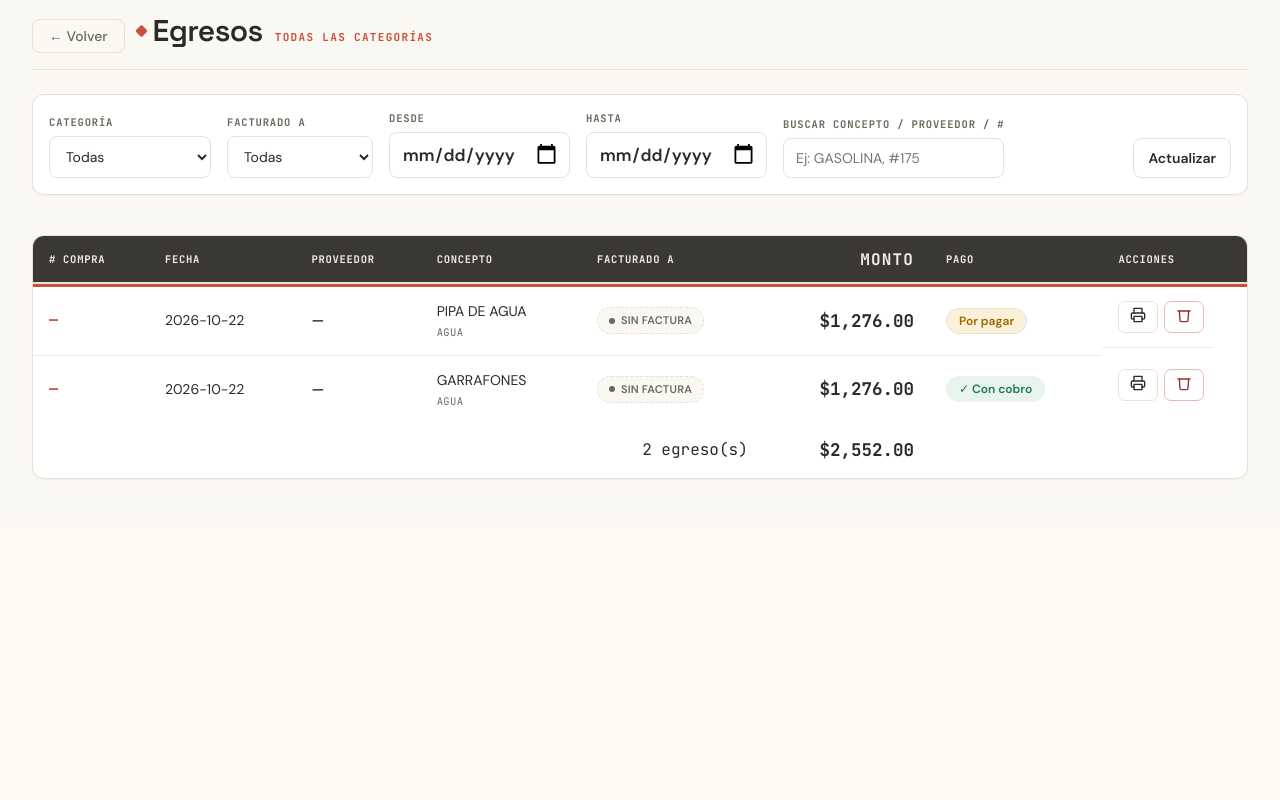
Test: Egresos: ¿con qué se pagó? › 🔴 el rechazo del servidor se ve y el modal se queda
This screenshot has width=1280, height=800.
Click the button "Por pagar" at (987, 321), box [946, 308, 1027, 334]
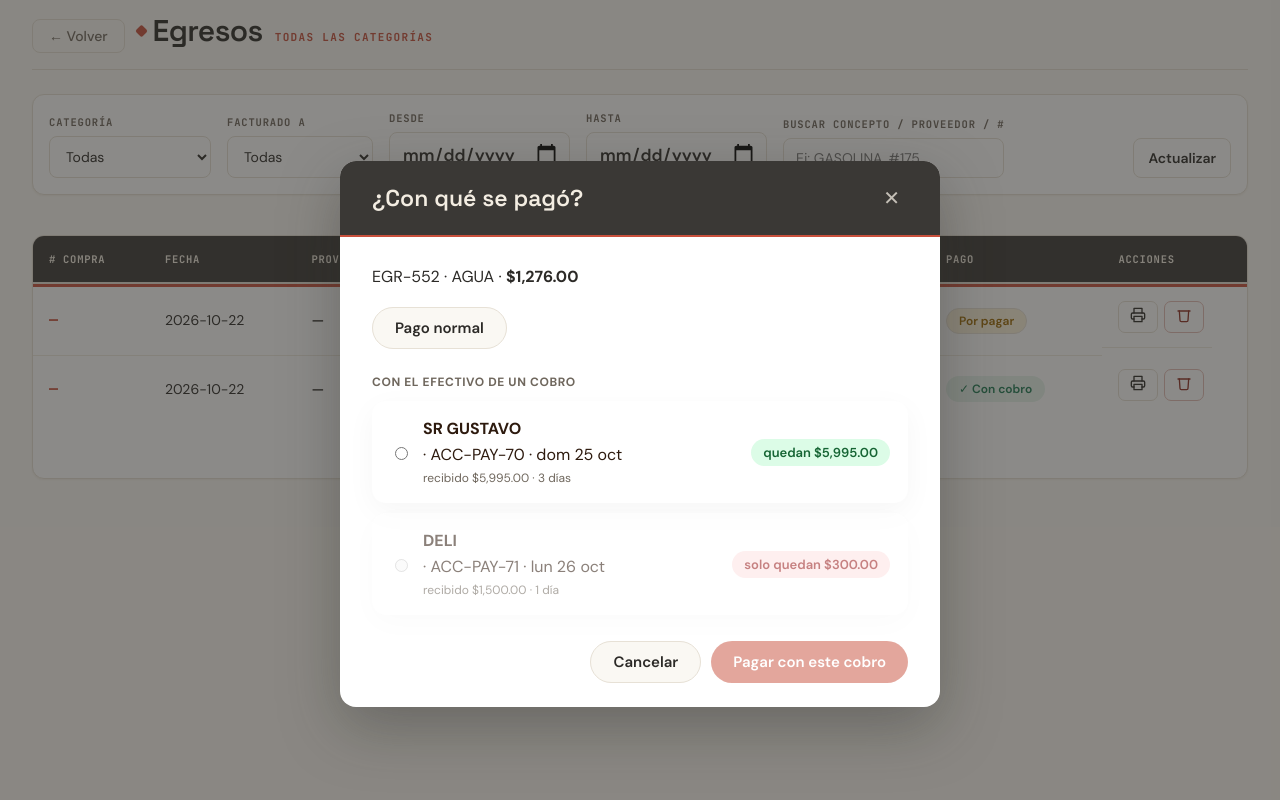
Click the radio button labelled "ACC-PAY-70" at (402, 454), box [395, 447, 408, 460]
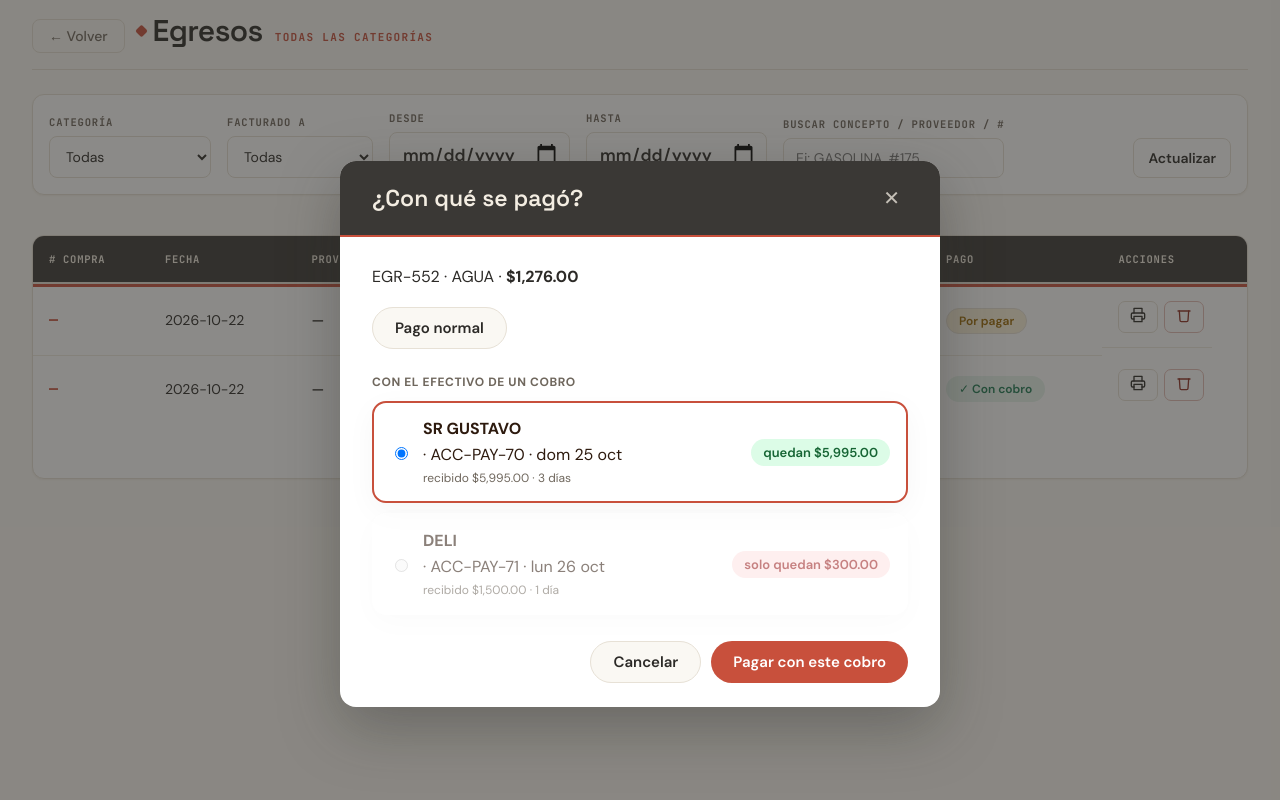
Click the button "Pagar con este cobro" at (810, 662), box [711, 641, 908, 683]
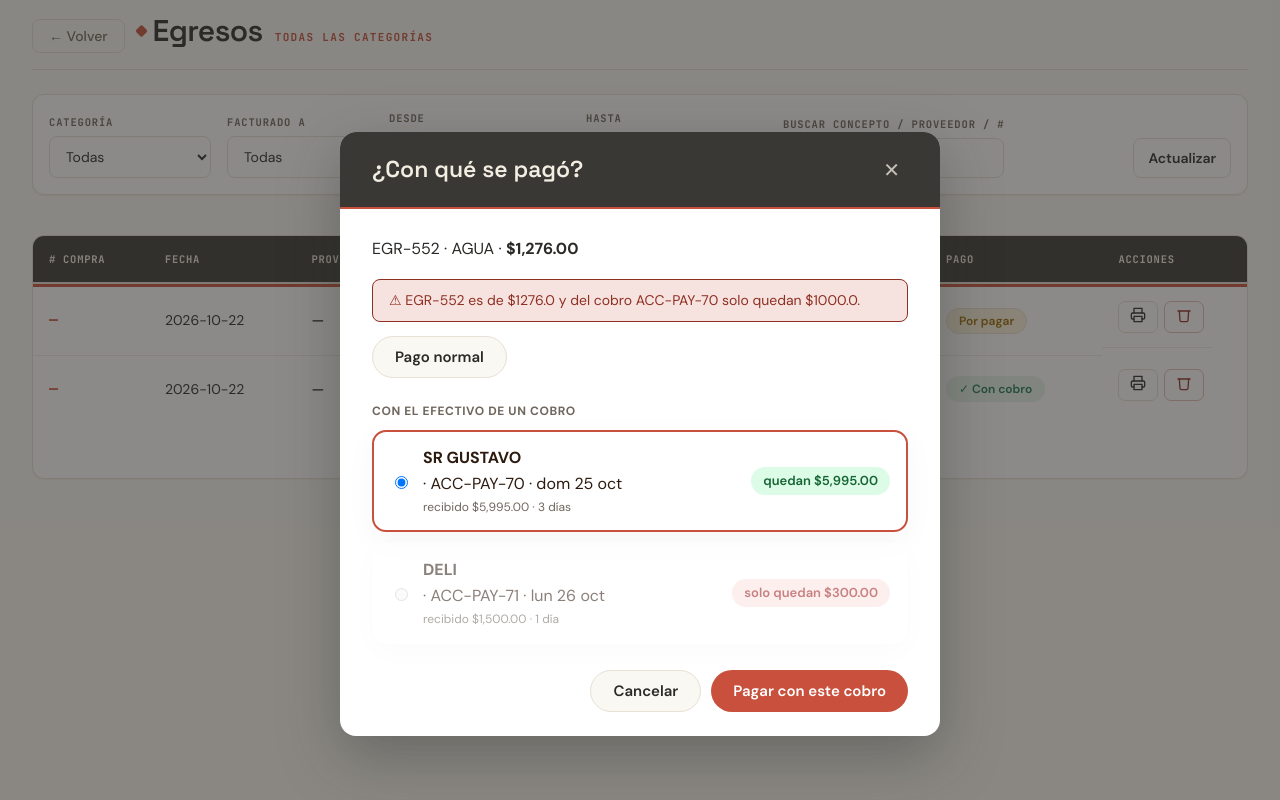
Expected: the button "Por pagar" is shown, [946, 308, 1027, 334]
Expected: the dialog is shown, [340, 132, 940, 736]
Expected: the text "solo quedan $1000.0" is shown, [405, 291, 860, 309]
